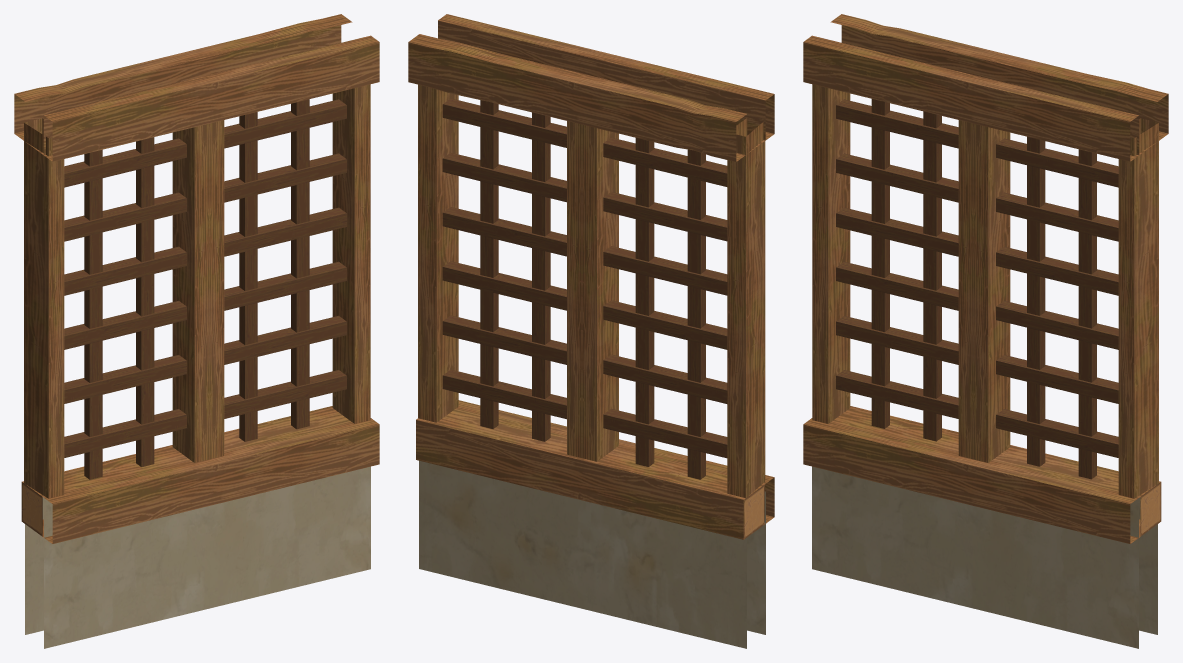
File: plaster-wall.glb
The picture shows the model from 3 angles, left to right: view 1: azimuth 30°, elevation 25°; view 2: azimuth 150°, elevation 25°; view 3: azimuth 330°, elevation 25°; orthographic projection.
Parts seen in each view (by area): view 1: Wall_Plaster_WoodGrid; view 2: Wall_Plaster_WoodGrid; view 3: Wall_Plaster_WoodGrid.
Boxes of the visible parts, x1,y1,x2,y2 form: Wall_Plaster_WoodGrid: (14, 14, 379, 648); Wall_Plaster_WoodGrid: (408, 14, 774, 648); Wall_Plaster_WoodGrid: (803, 14, 1168, 648).
Bounding box in the file's own units: 2 × 3.12 × 0.4066.
2 materials, 2 textured.
